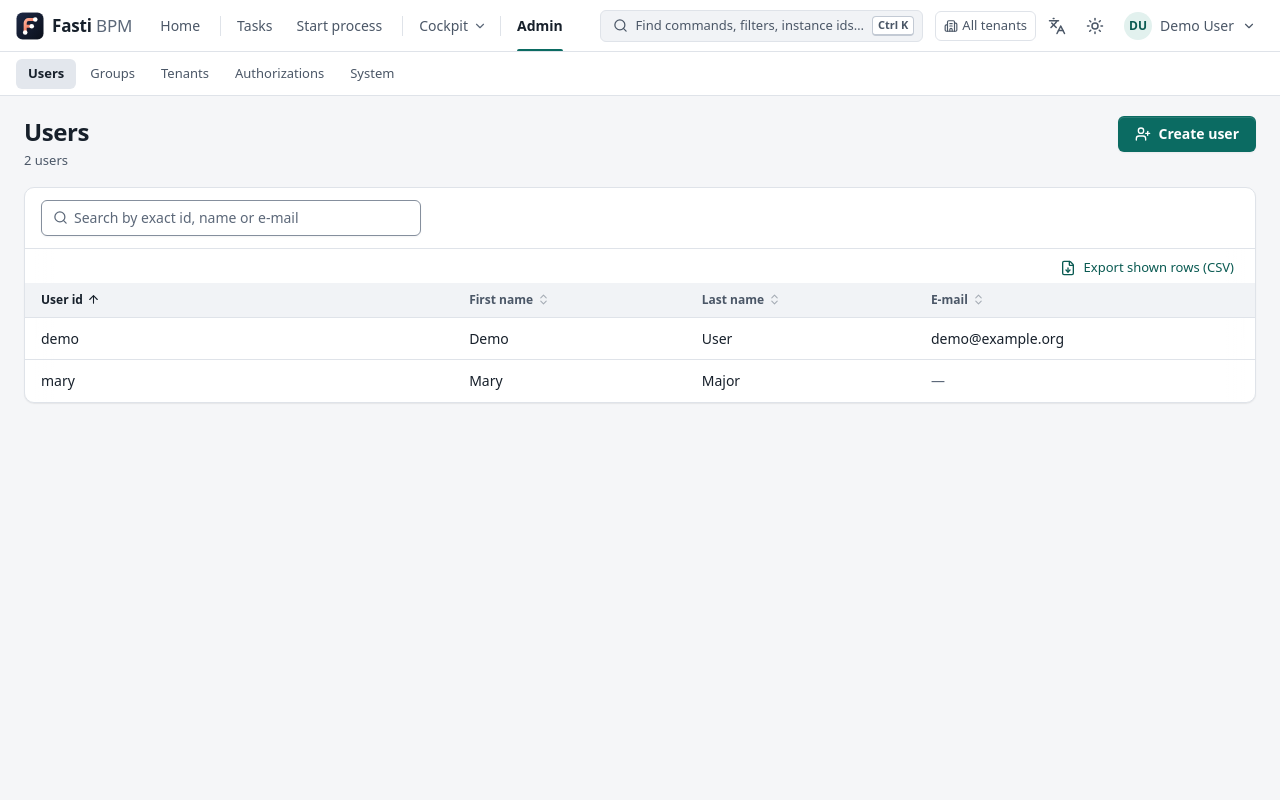
Scenario: users › reports what the password policy of the engine refuses
Click the button "Create user". click: (1187, 134)
box: [1118,116,1256,152]
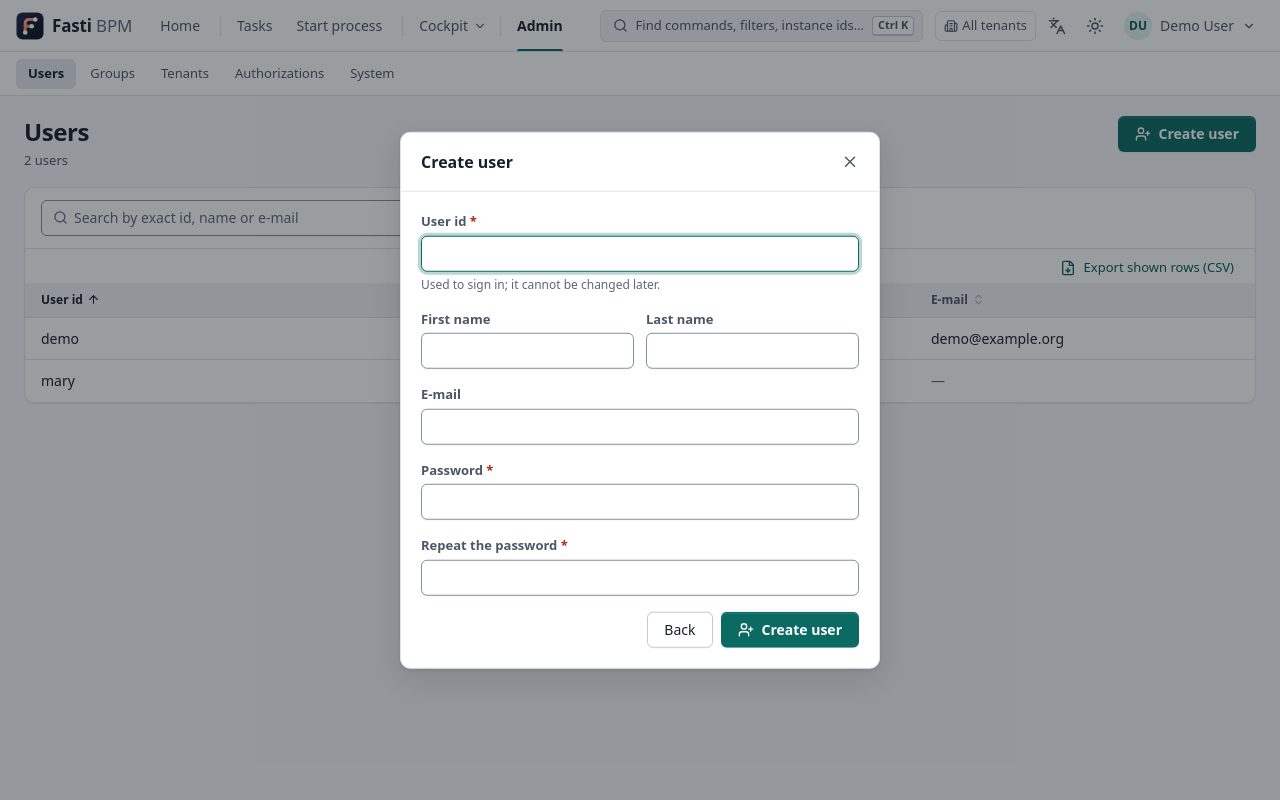
Type "shorty" into the field labelled "User id *". click: (640, 253)
box: [421,235,859,271]
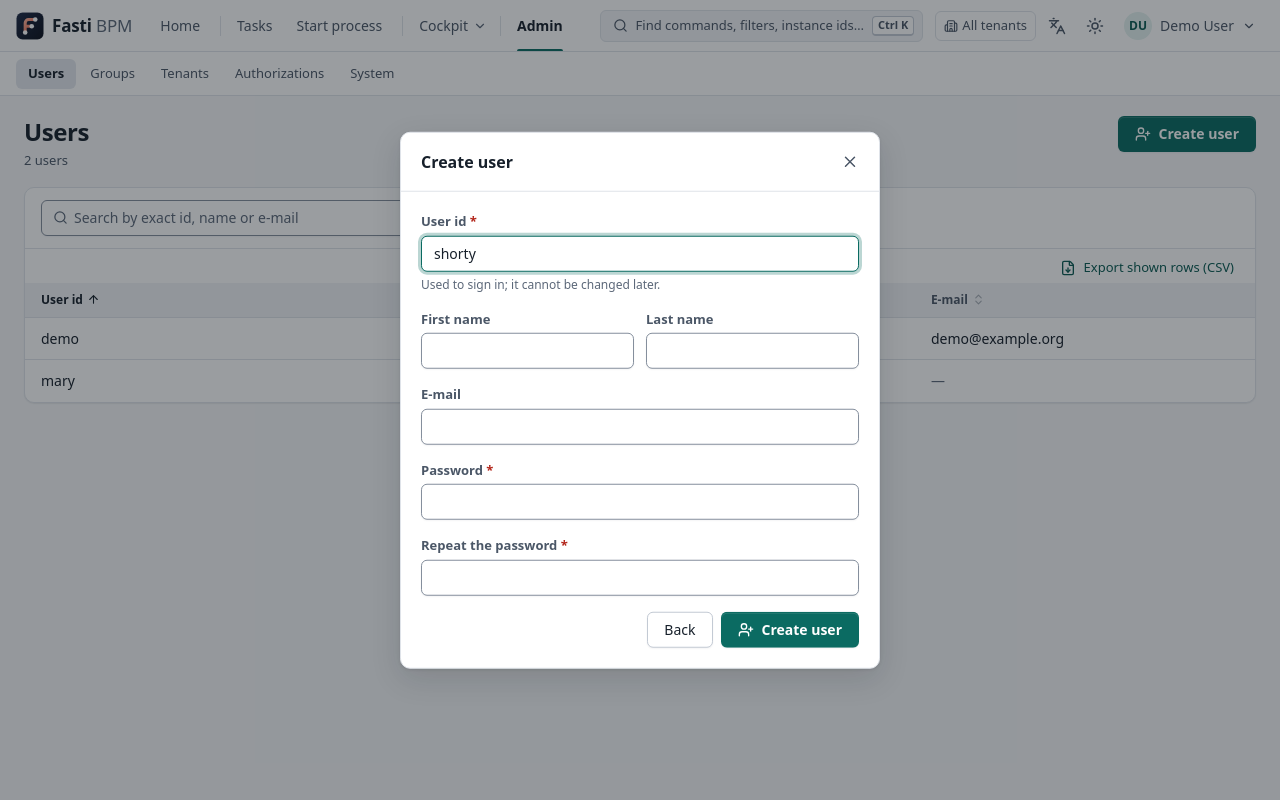
Type "abc" into the password field labelled "Password *". click: (640, 502)
box: [421,484,859,520]
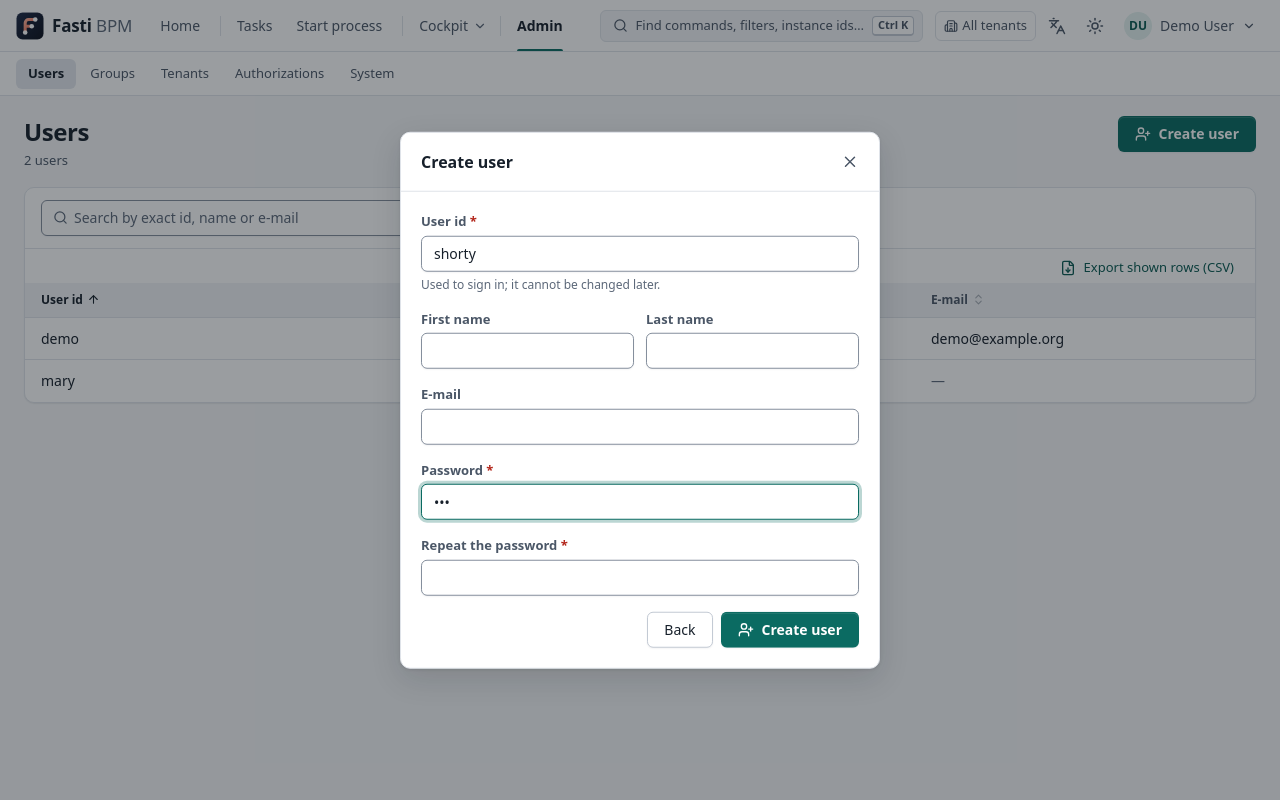
Type "abc" into the password field labelled "Repeat the password *". click: (640, 577)
box: [421,559,859,595]
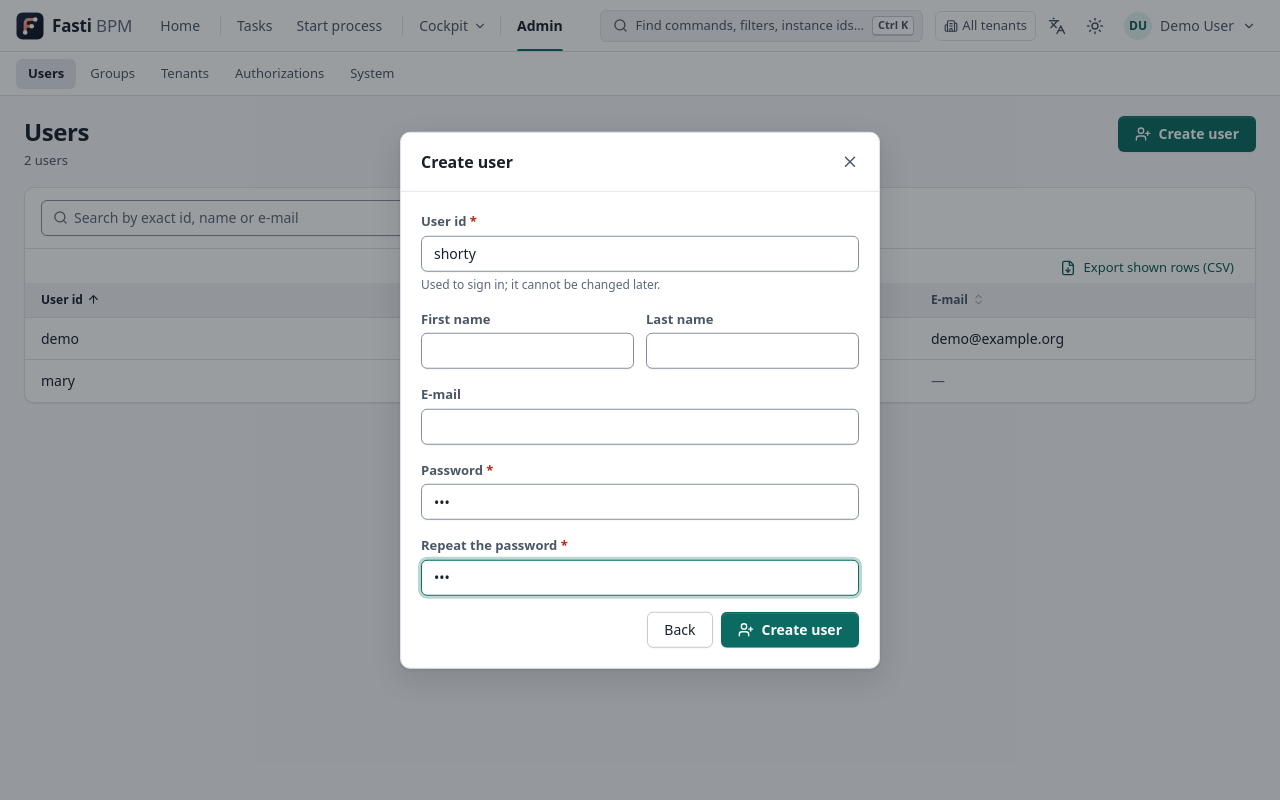
Click the button "Create user". click: (790, 629)
box: [720,611,859,647]
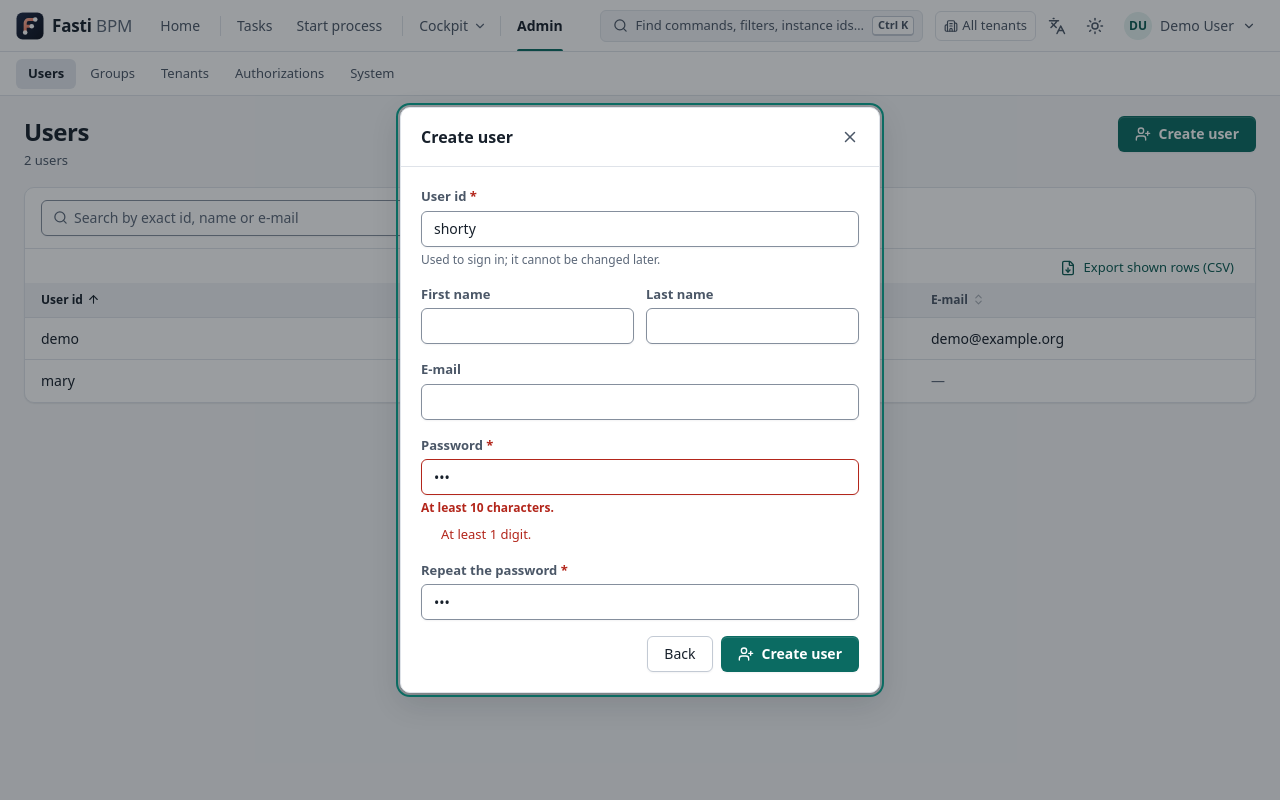
Check: the text "At least 10 characters." is shown, box [421,499,554,516]
Check: the list item "At least 1 digit." is shown, box [441,525,531,543]
